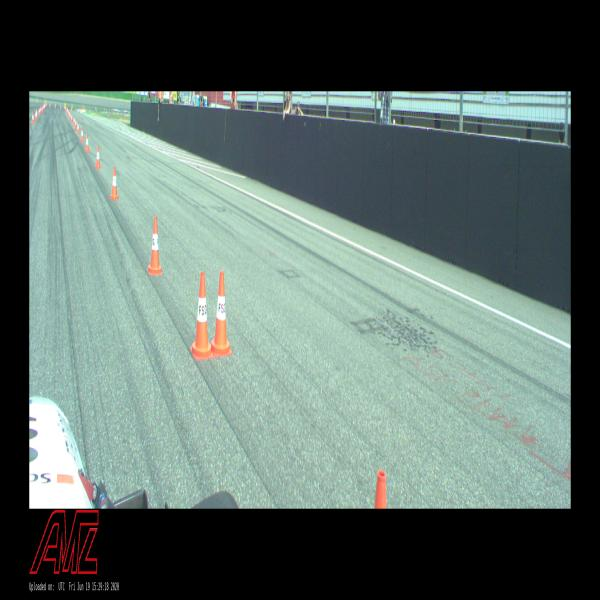orange_cone: (190, 273, 214, 360), (212, 271, 232, 357), (147, 216, 162, 274), (110, 166, 118, 200), (95, 146, 101, 169), (85, 134, 89, 152), (80, 126, 84, 142), (76, 121, 80, 134), (74, 118, 77, 128), (32, 112, 34, 123), (38, 106, 40, 116), (35, 110, 37, 120), (73, 116, 75, 125), (70, 113, 72, 122), (40, 106, 42, 112)
unknown_cone: (374, 470, 387, 509)
